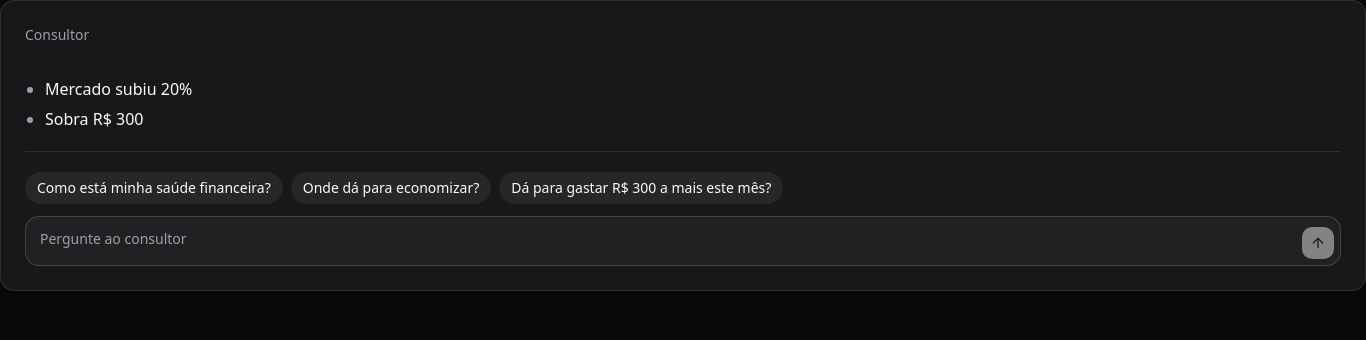
Test case: AdvisorCard › answer null avisa e mantém a pergunta para tentar de novo
Type "oi?" into the text box labelled "Pergunte ao consultor" at [663, 241], box [32,223,1294,259]
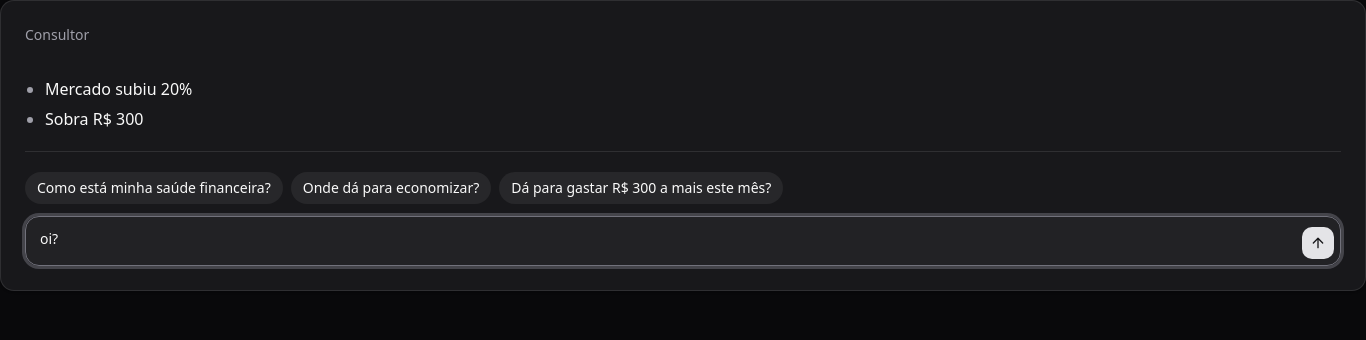
Click the button named "Enviar" at [1318, 243], box [1302,227,1334,259]
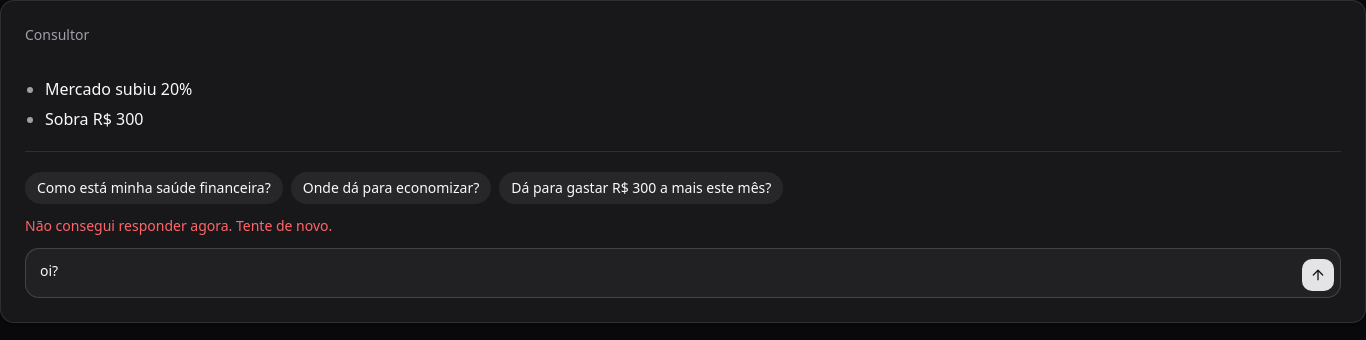
Check: the text "Não consegui responder agora. Tente de novo." is shown, box [25,216,332,235]
